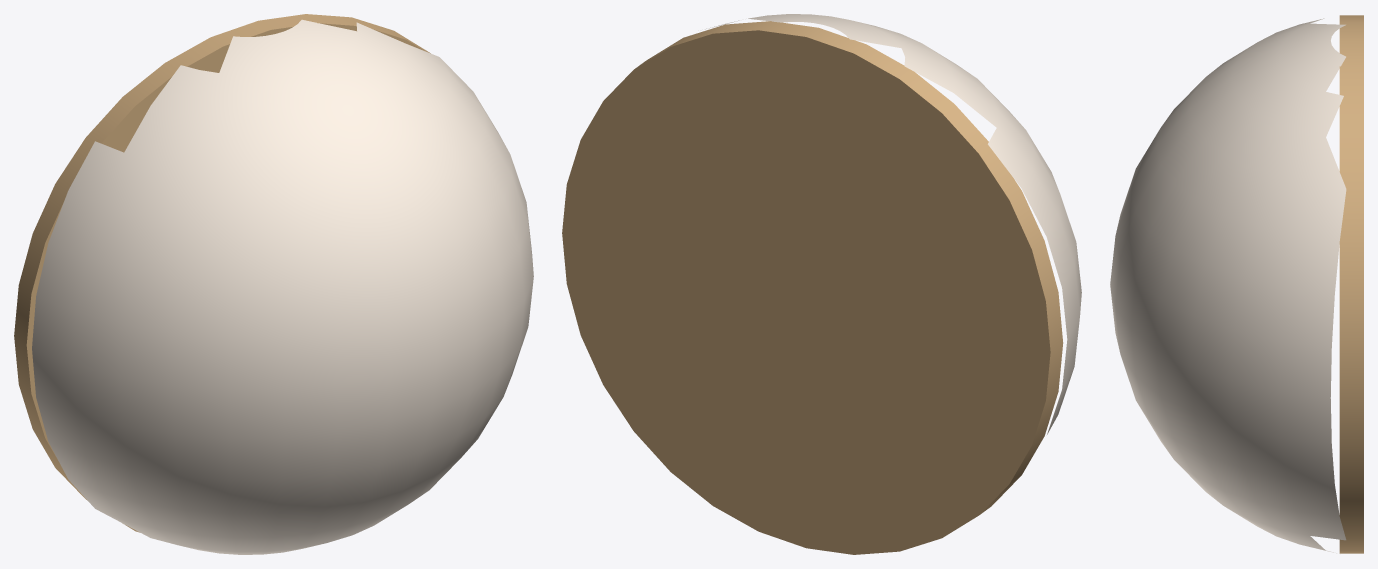
File: doll_FacePlate.glb
3 views of the same model, side by side, from view 1: azimuth 30°, elevation 25°; view 2: azimuth 150°, elevation 25°; view 3: azimuth 270°, elevation 25° (orthographic). The views are drawn at different scales.
Visible parts, largest first — view 1: FacePlate; view 2: FacePlate; view 3: FacePlate.
Boxes of the visible parts, box(x1,y1,x2,y2) form: FacePlate: box(14, 14, 533, 554); FacePlate: box(562, 14, 1081, 554); FacePlate: box(1110, 15, 1363, 553).
Bounding box in the file's own units: 0.4478 × 0.4478 × 0.2107.
